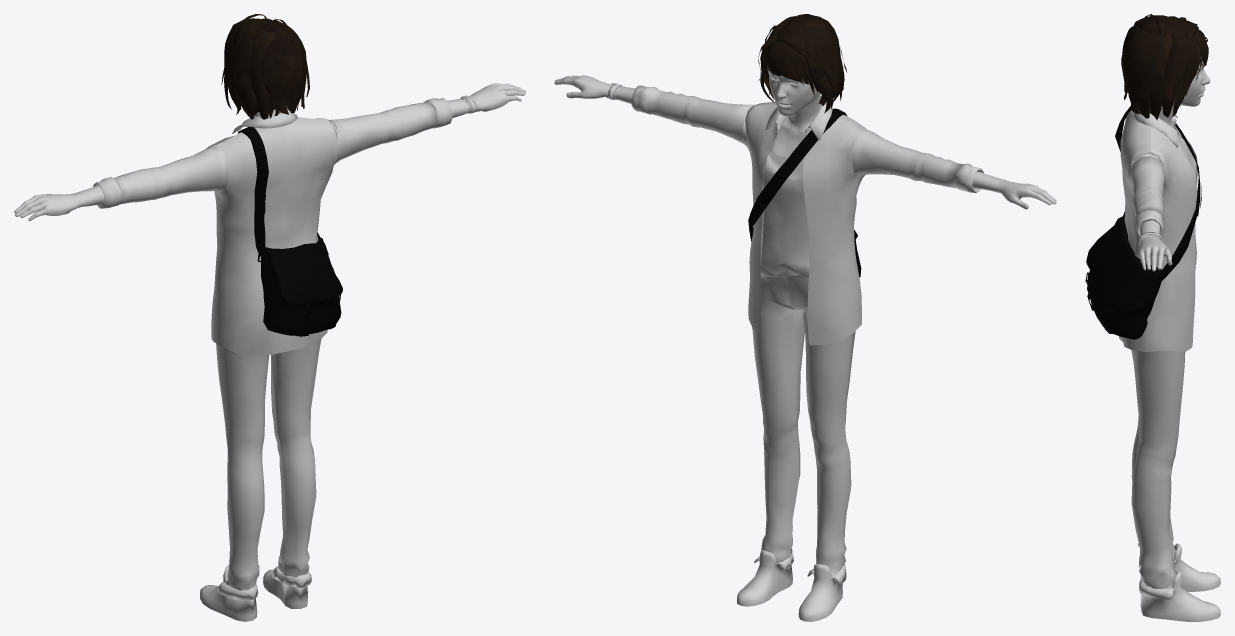
Rendered from max_caulfield.obj.
3 renders of one model, left to right at view 1: azimuth 30°, elevation 25°; view 2: azimuth 150°, elevation 25°; view 3: azimuth 270°, elevation 25°, orthographic.
Parts seen in each view (by area): view 1: Maxin_Caulfield_Body, Maxin_Caulfield_Bag, Maxin_Caulfield_Hair; view 2: Maxin_Caulfield_Body, Maxin_Caulfield_Hair, Maxin_Caulfield_Head, Maxin_Caulfield_Bag; view 3: Maxin_Caulfield_Body, Maxin_Caulfield_Bag, Maxin_Caulfield_Hair, Maxin_Caulfield_Head.
Boxes of the visible parts, x1=… form: Maxin_Caulfield_Body: x1=14, y1=83, x2=525, y2=621; Maxin_Caulfield_Bag: x1=238, y1=127, x2=342, y2=336; Maxin_Caulfield_Hair: x1=221, y1=14, x2=309, y2=119; Maxin_Caulfield_Body: x1=554, y1=75, x2=1056, y2=621; Maxin_Caulfield_Hair: x1=758, y1=14, x2=847, y2=113; Maxin_Caulfield_Head: x1=767, y1=65, x2=821, y2=157; Maxin_Caulfield_Bag: x1=748, y1=108, x2=861, y2=277; Maxin_Caulfield_Body: x1=1119, y1=106, x2=1220, y2=621; Maxin_Caulfield_Bag: x1=1085, y1=105, x2=1201, y2=339; Maxin_Caulfield_Hair: x1=1121, y1=14, x2=1208, y2=120; Maxin_Caulfield_Head: x1=1150, y1=57, x2=1210, y2=157.
Size of the model in its own units: 154 by 169 by 35.5.
